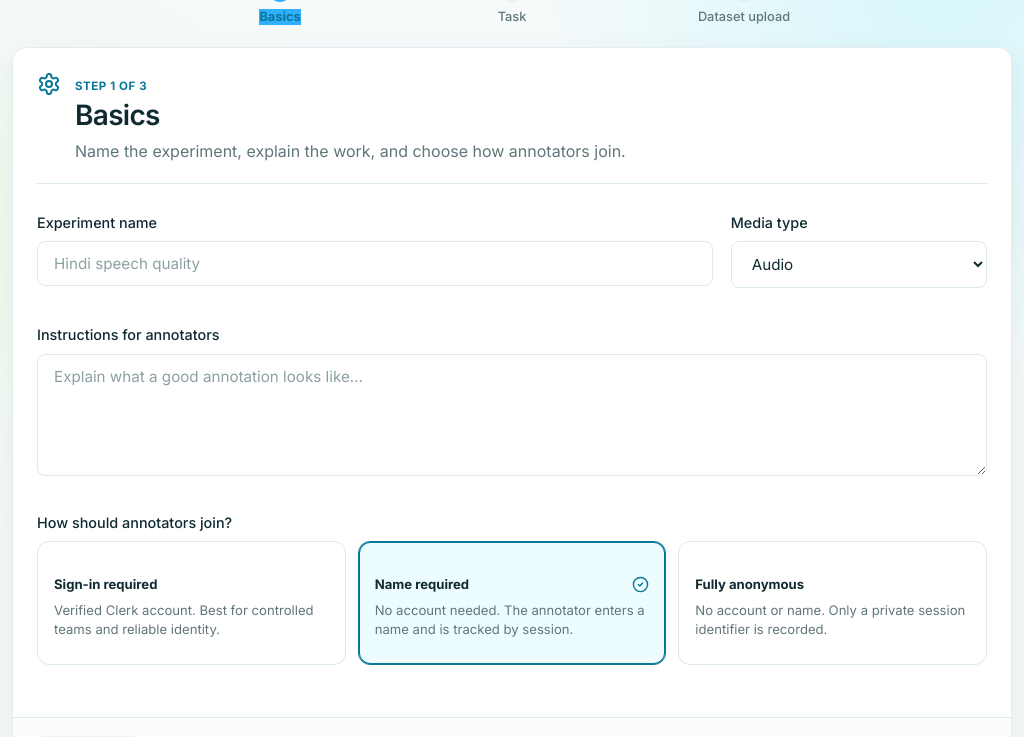
Test case: CreateExperiment - Dataset Upload Flow › renders upload mode selector and toggles to bundle zip dropzone
The image size is (1024, 737).
In the field labelled "Experiment name": (375, 264) x1=37 y1=241 x2=713 y2=286, type "Test Experiment"
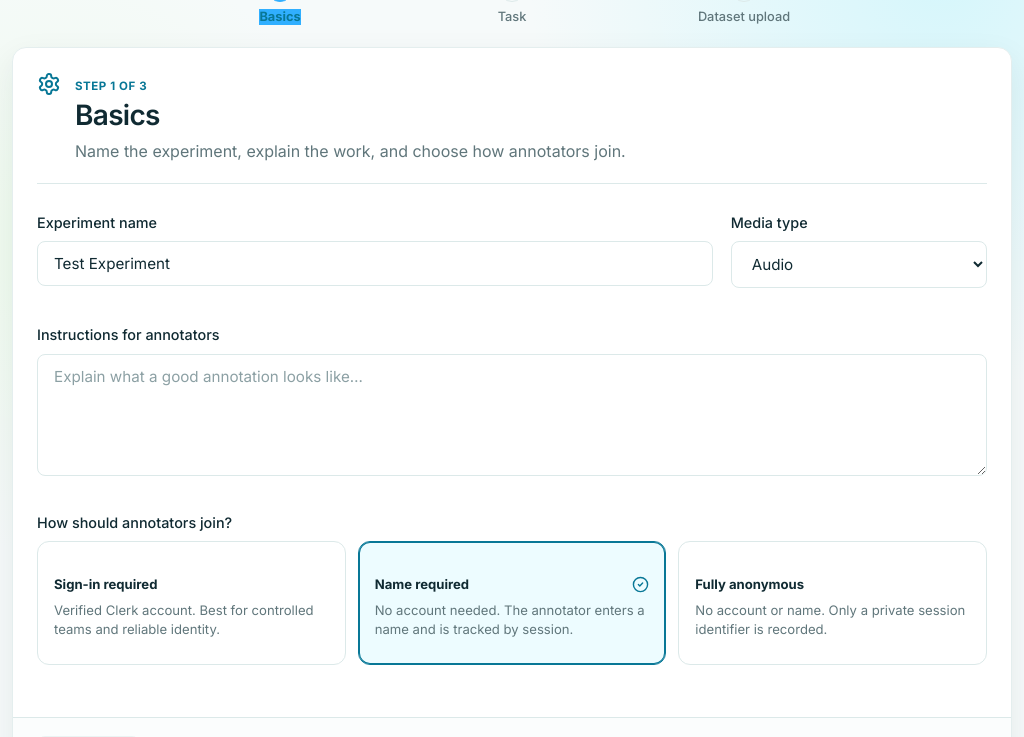
In the text box labelled "Instructions for annotators": (512, 415) x1=37 y1=354 x2=987 y2=476, type "Annotate accurately"
(page scrolled)
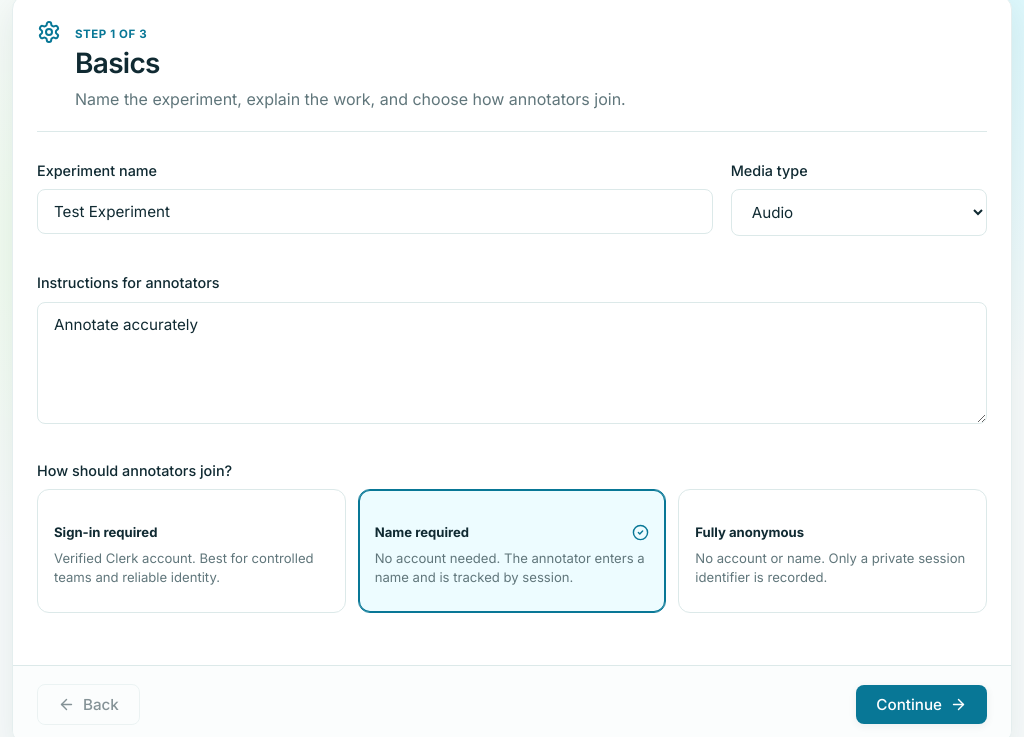
Click the button "Continue": (922, 705) x1=856 y1=685 x2=987 y2=724
(page scrolled)
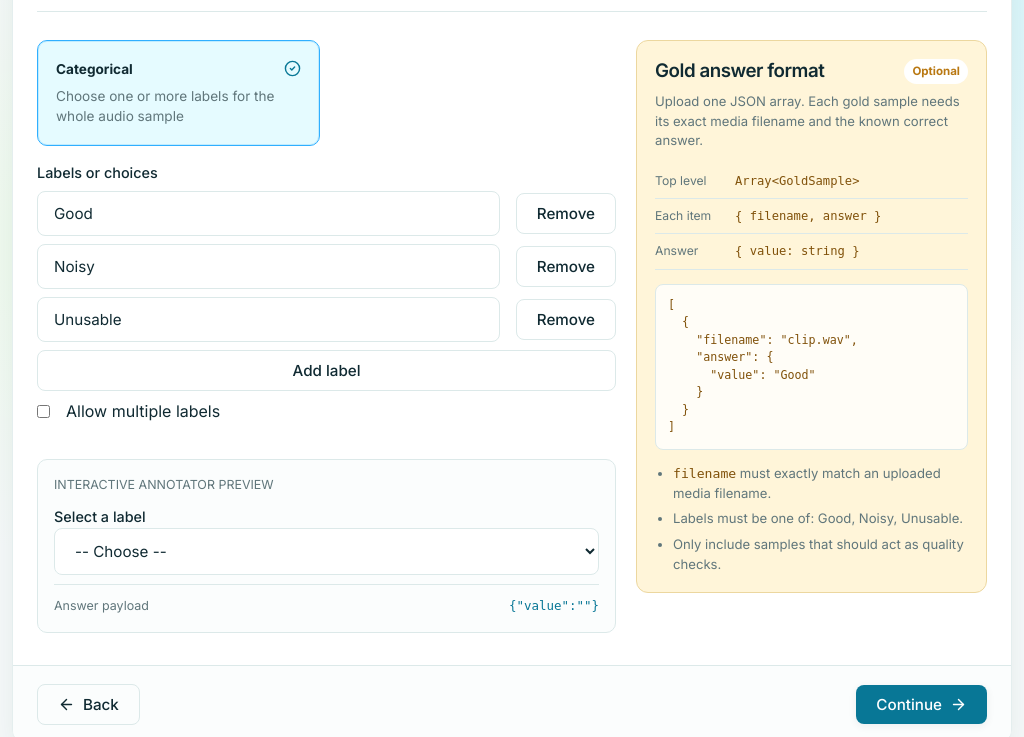
Click the button "Continue": (922, 704) x1=856 y1=685 x2=987 y2=724
(page scrolled)
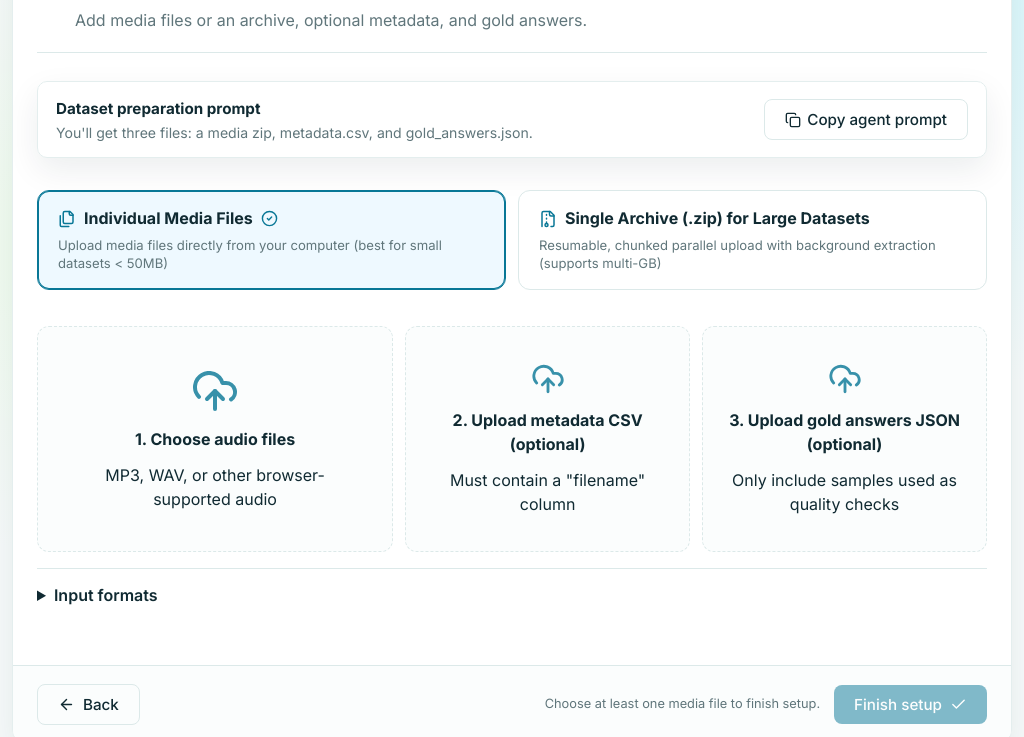
Now the text "Individual Media Files" is shown, box x1=84 y1=208 x2=253 y2=230
Now the text "1. Choose audio files" is shown, box x1=135 y1=427 x2=295 y2=451
Click the text "Single Archive (.zip) for Large Datasets": (717, 219) x1=565 y1=208 x2=870 y2=230
(page scrolled)
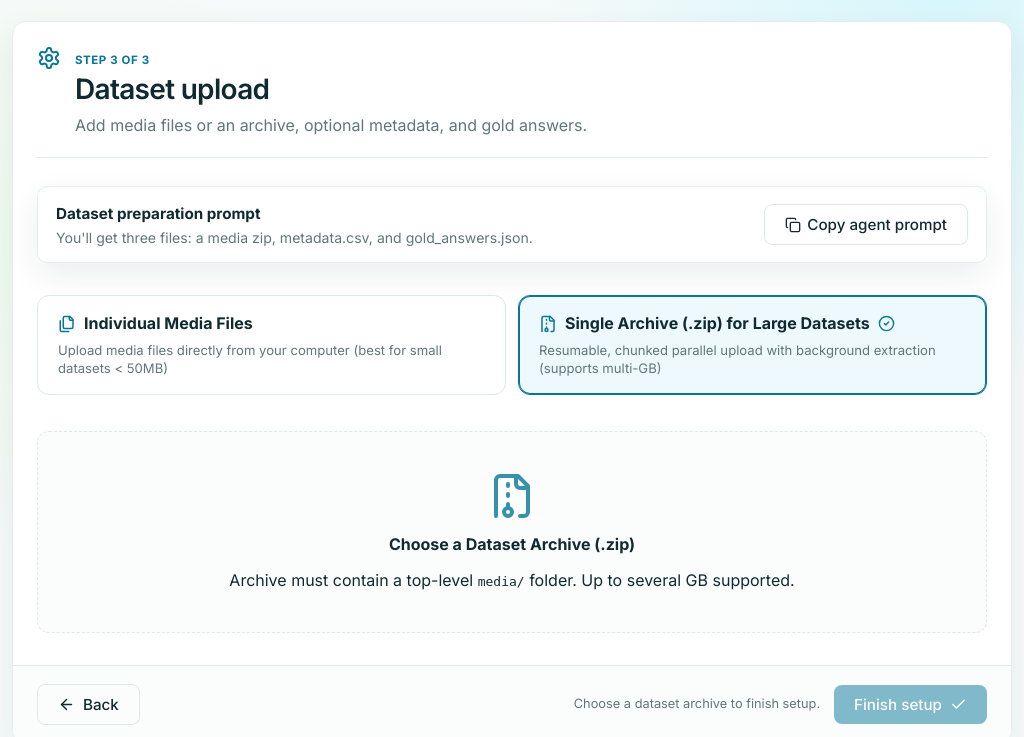
Now the text "Choose a Dataset Archive (.zip)" is shown, box x1=389 y1=532 x2=635 y2=556
Now the text "Archive must contain a top-level" is shown, box x1=229 y1=570 x2=478 y2=590
